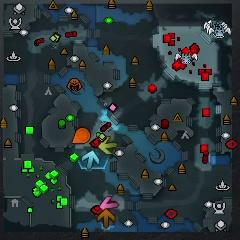p5: (72, 128, 90, 143)
x1: (100, 196, 119, 211)
x2: (99, 136, 118, 154)
x3: (82, 150, 100, 169)
x5: (98, 209, 115, 228)
